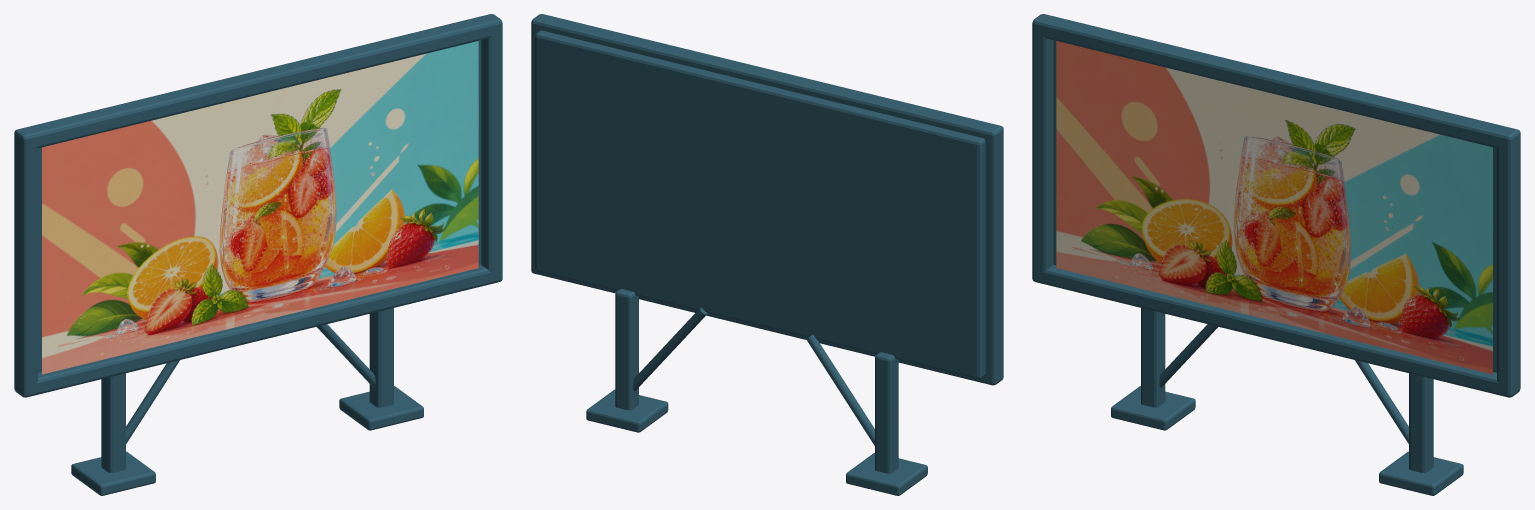
The model's file is SM_SolCity_Billboard_01.fbx.
3 views of the same model, side by side, from view 1: azimuth 30°, elevation 25°; view 2: azimuth 150°, elevation 25°; view 3: azimuth 330°, elevation 25° (orthographic). The views are drawn at different scales.
Parts seen in each view (by area): view 1: SM_SolCity_Billboard_01; view 2: SM_SolCity_Billboard_01; view 3: SM_SolCity_Billboard_01.
Boxes of the visible parts, x1=… form: SM_SolCity_Billboard_01: x1=14, y1=14, x2=502, y2=495; SM_SolCity_Billboard_01: x1=531, y1=14, x2=1003, y2=495; SM_SolCity_Billboard_01: x1=1032, y1=14, x2=1520, y2=495.
Bounding box in the file's own units: 6.16 × 0.7 × 4.66.
